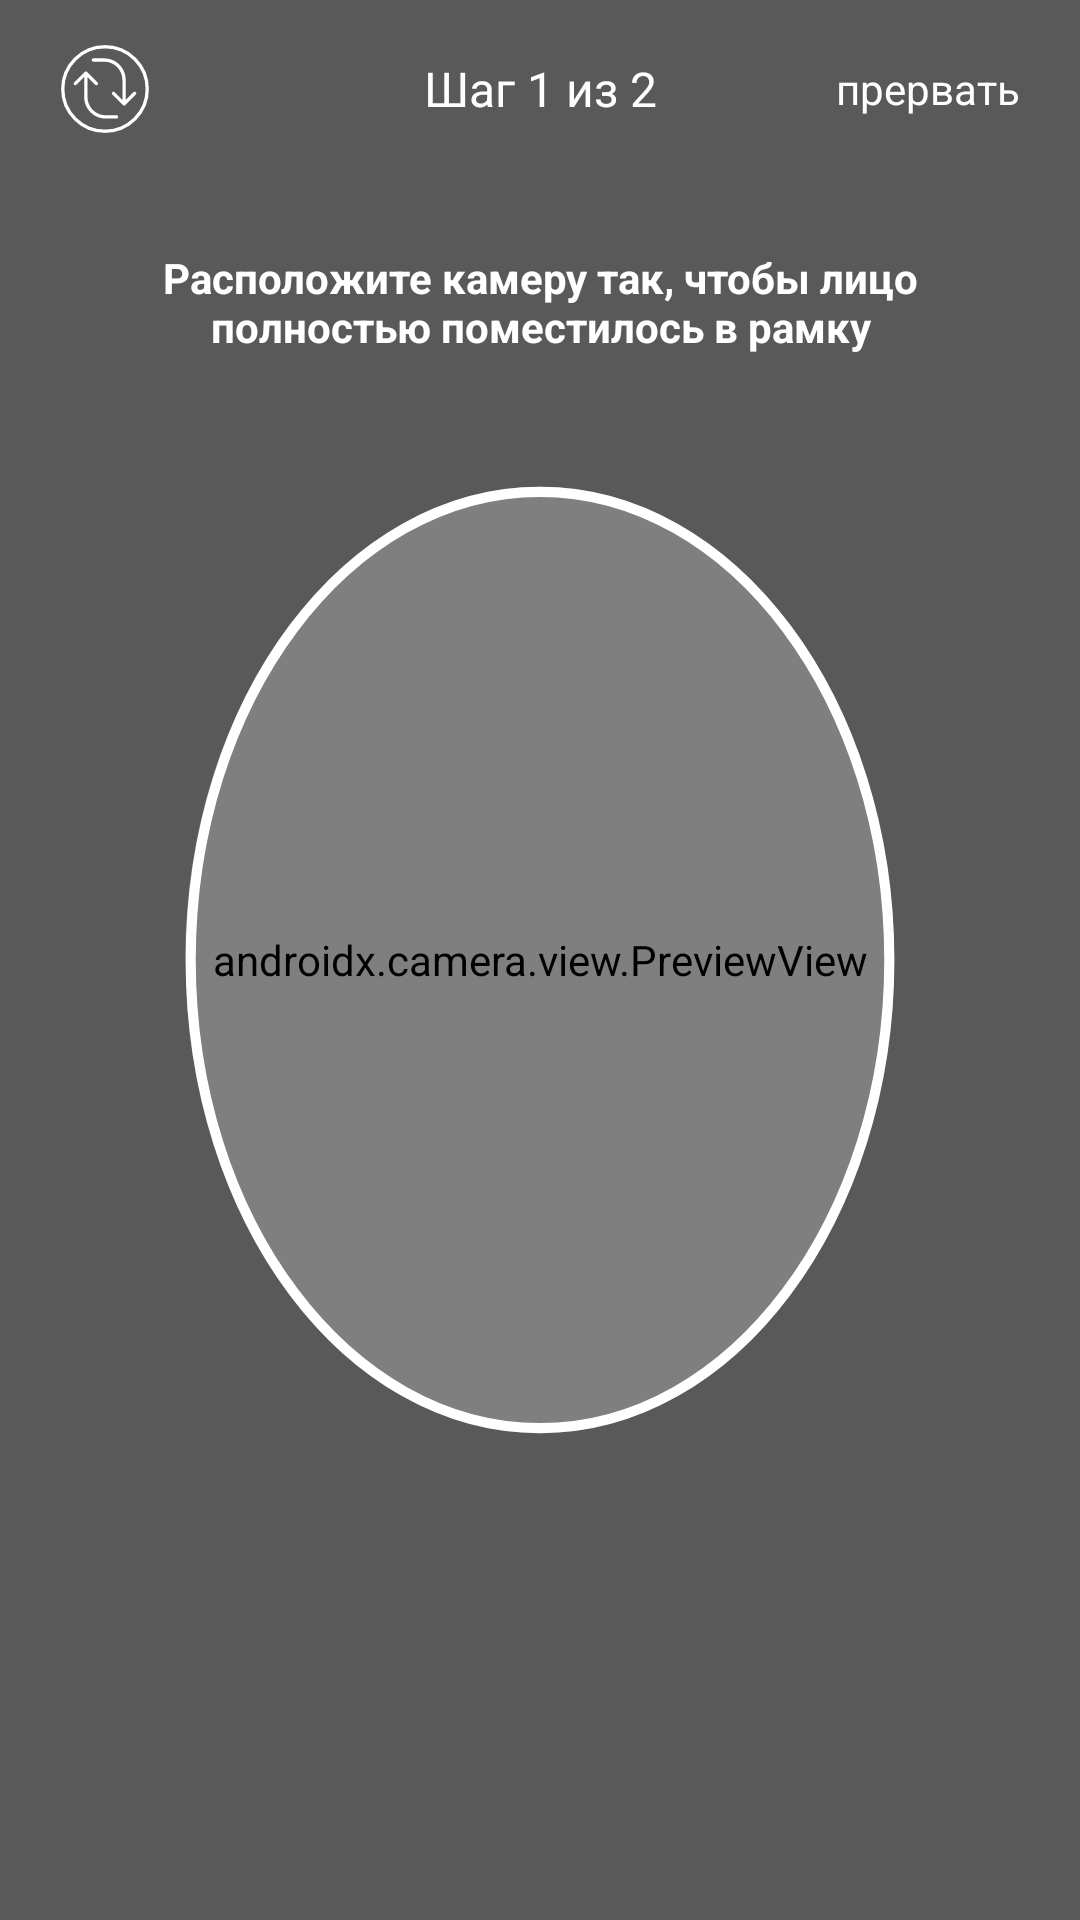

Screen size 1080px x 1920px. Icon name, then its center in pixels as point (x, y):
flip camera: point (105, 89)
